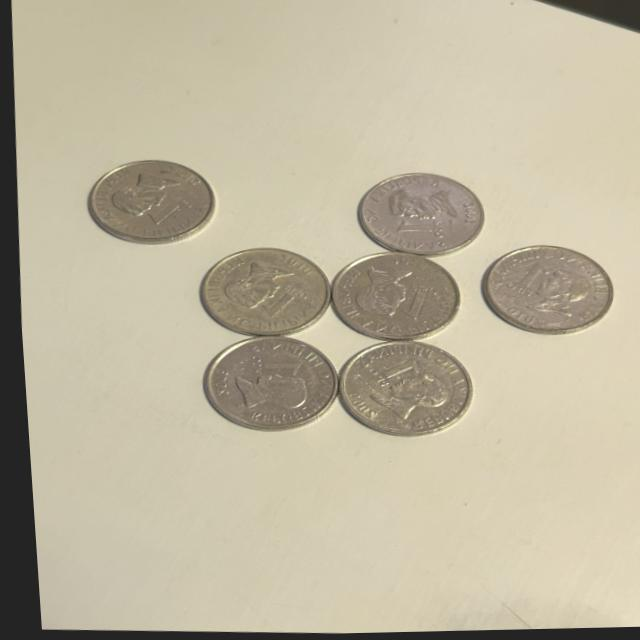1_Old_Front: (133, 194, 208, 235), (249, 280, 308, 327), (355, 356, 422, 393), (235, 353, 308, 384), (387, 216, 449, 251), (498, 262, 547, 305), (391, 284, 437, 326)
